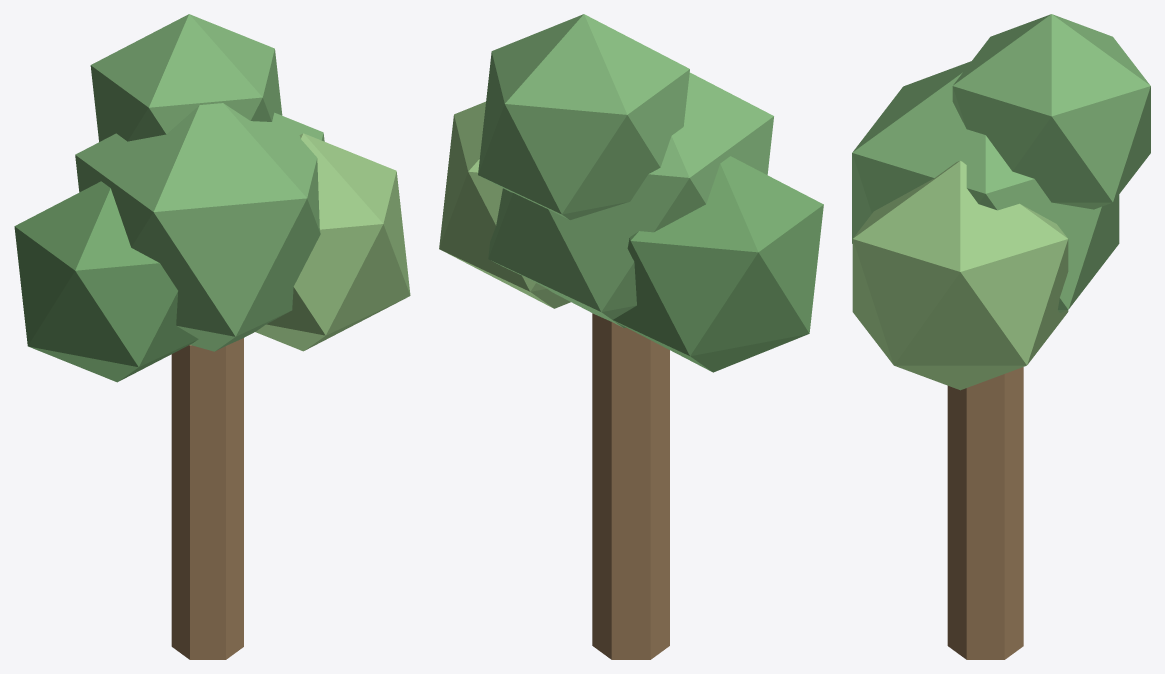
The model's file is tree.glb.
The picture shows the model from 3 angles, left to right: view 1: azimuth 30°, elevation 25°; view 2: azimuth 150°, elevation 25°; view 3: azimuth 270°, elevation 25°; orthographic projection. The views are drawn at different scales.
Parts seen in each view (by area): view 1: canopy_core, canopy_left, trunk, canopy_right, canopy_top; view 2: canopy_top, canopy_left, trunk, canopy_core, canopy_right; view 3: canopy_right, canopy_top, trunk, canopy_core.
Part boxes in pixels (bbox=[...]): canopy_core: bbox=[75, 103, 324, 351]; canopy_left: bbox=[14, 181, 198, 382]; trunk: bbox=[171, 338, 243, 659]; canopy_right: bbox=[255, 133, 410, 351]; canopy_top: bbox=[90, 14, 282, 141]; canopy_top: bbox=[478, 14, 689, 219]; canopy_left: bbox=[613, 156, 823, 372]; trunk: bbox=[592, 313, 669, 659]; canopy_core: bbox=[488, 72, 773, 327]; canopy_right: bbox=[439, 101, 570, 308]; canopy_right: bbox=[852, 160, 1068, 390]; canopy_top: bbox=[952, 14, 1150, 209]; trunk: bbox=[947, 367, 1023, 659]; canopy_core: bbox=[852, 61, 1119, 312].
Bounding box in the file's own units: 1.68 × 2.78 × 1.18.
